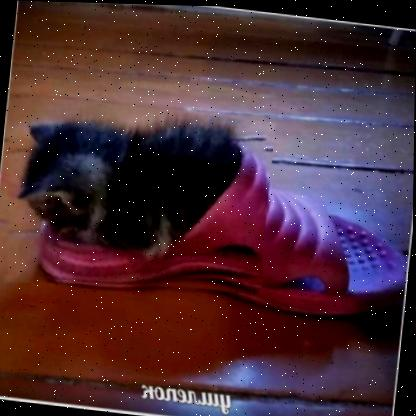cat: (0, 92, 277, 306)
